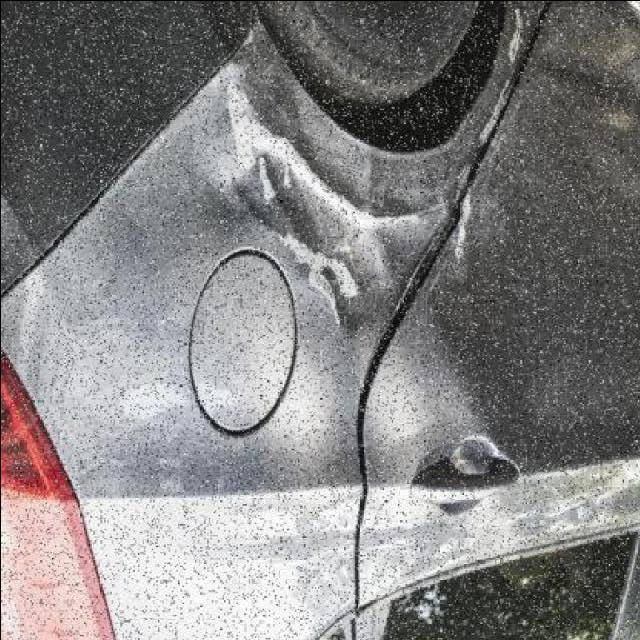doorouter-dent: (431, 180, 640, 601)
quaterpanel-dent: (89, 4, 368, 631)
